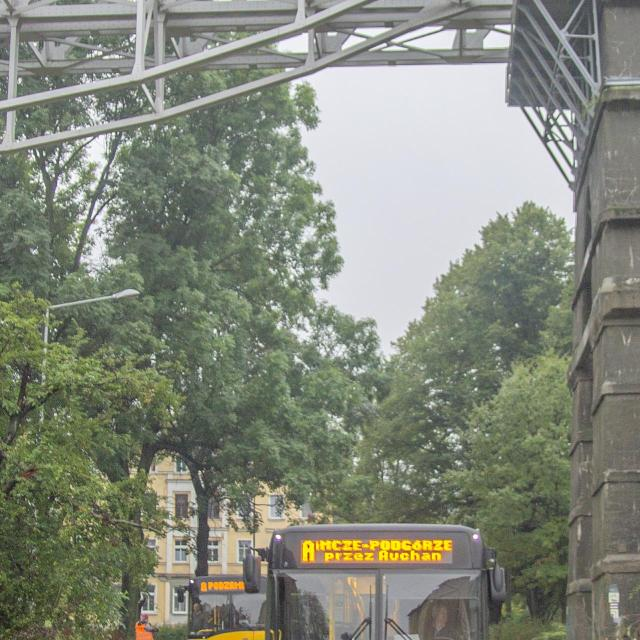Bus: (265, 526, 506, 640), (188, 577, 266, 640)
